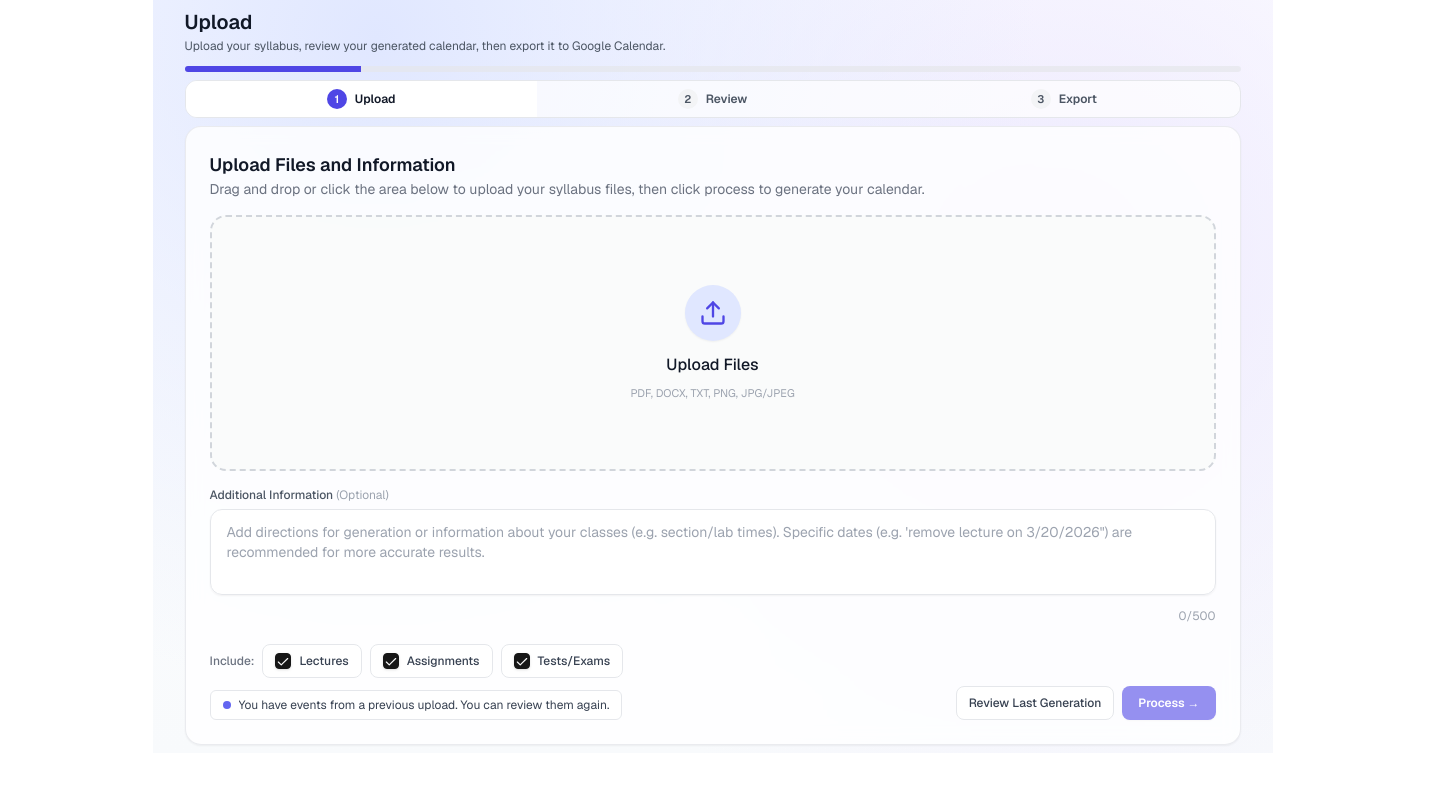
Scenario: Uploads unit tests › Step 2 - Review panel › renders event titles in the list
The image size is (1440, 810).
Click the button "2 Review". click: x=712, y=99
box: [537,81,888,117]
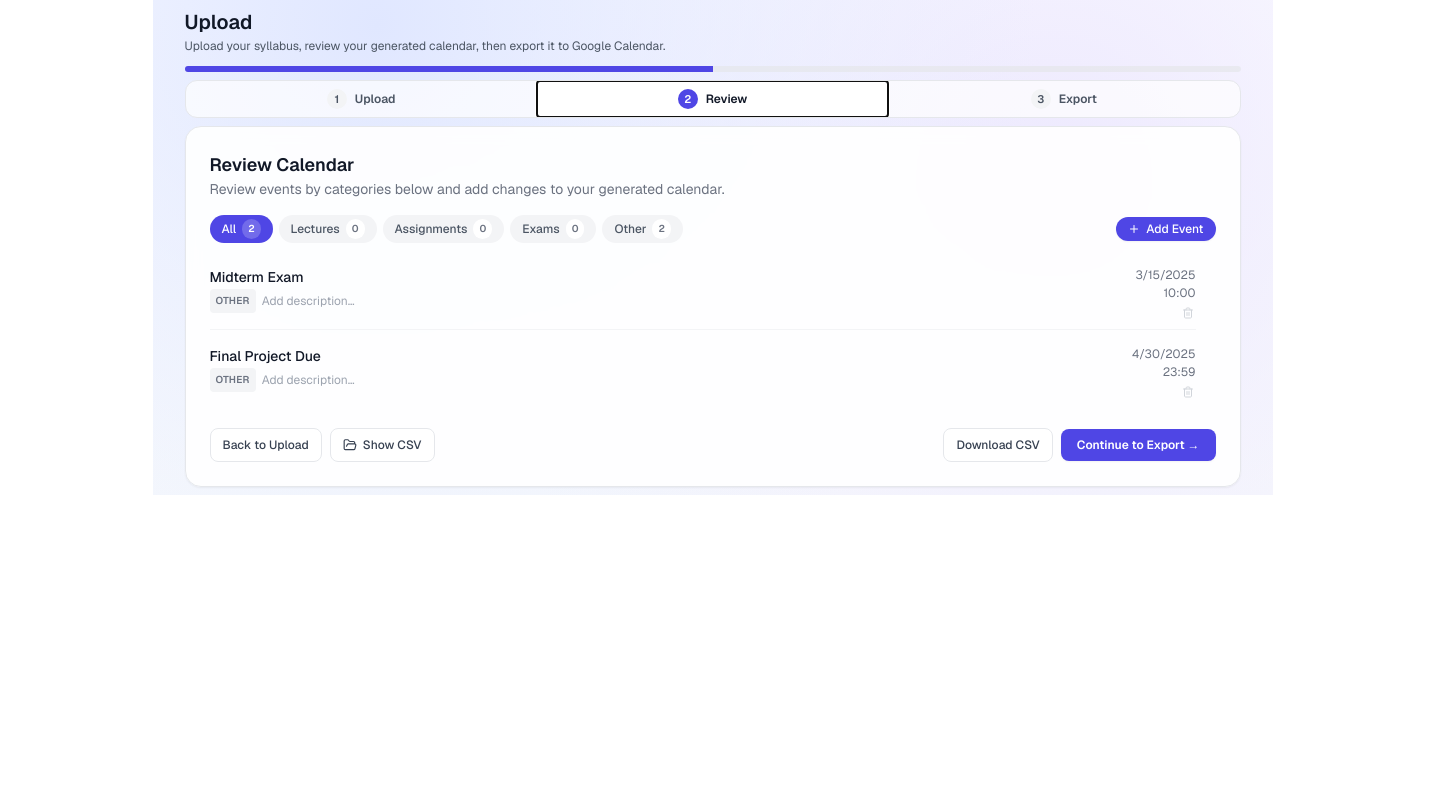
Expected: the text "Midterm Exam" is shown, [210,268,304,286]
Expected: the text "Final Project Due" is shown, [210,347,321,365]
